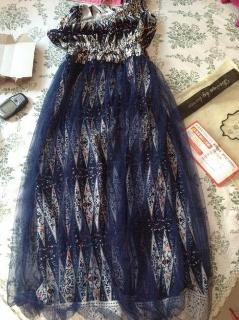vest: (6, 0, 213, 319)
